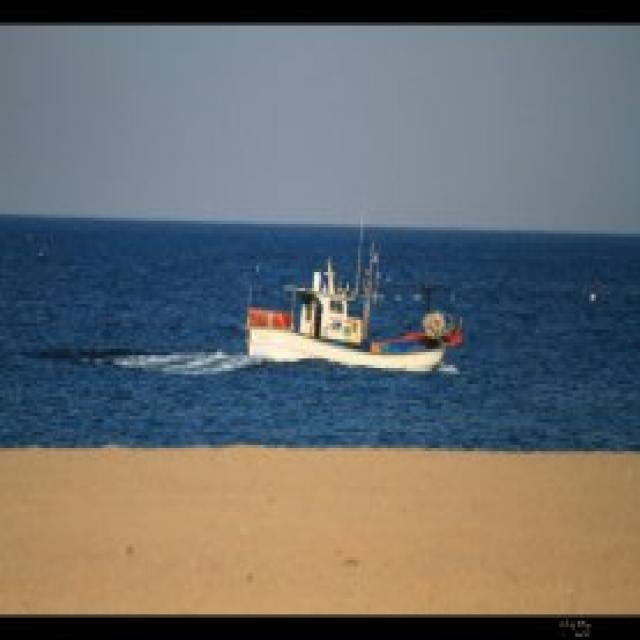Ship: (248, 206, 468, 385)
